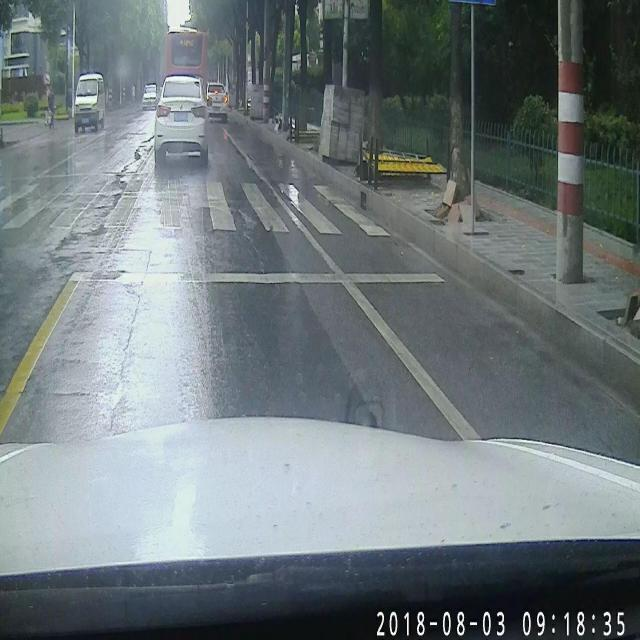car: (152, 76, 208, 163), (72, 75, 106, 128), (202, 81, 227, 123), (142, 82, 158, 113)
